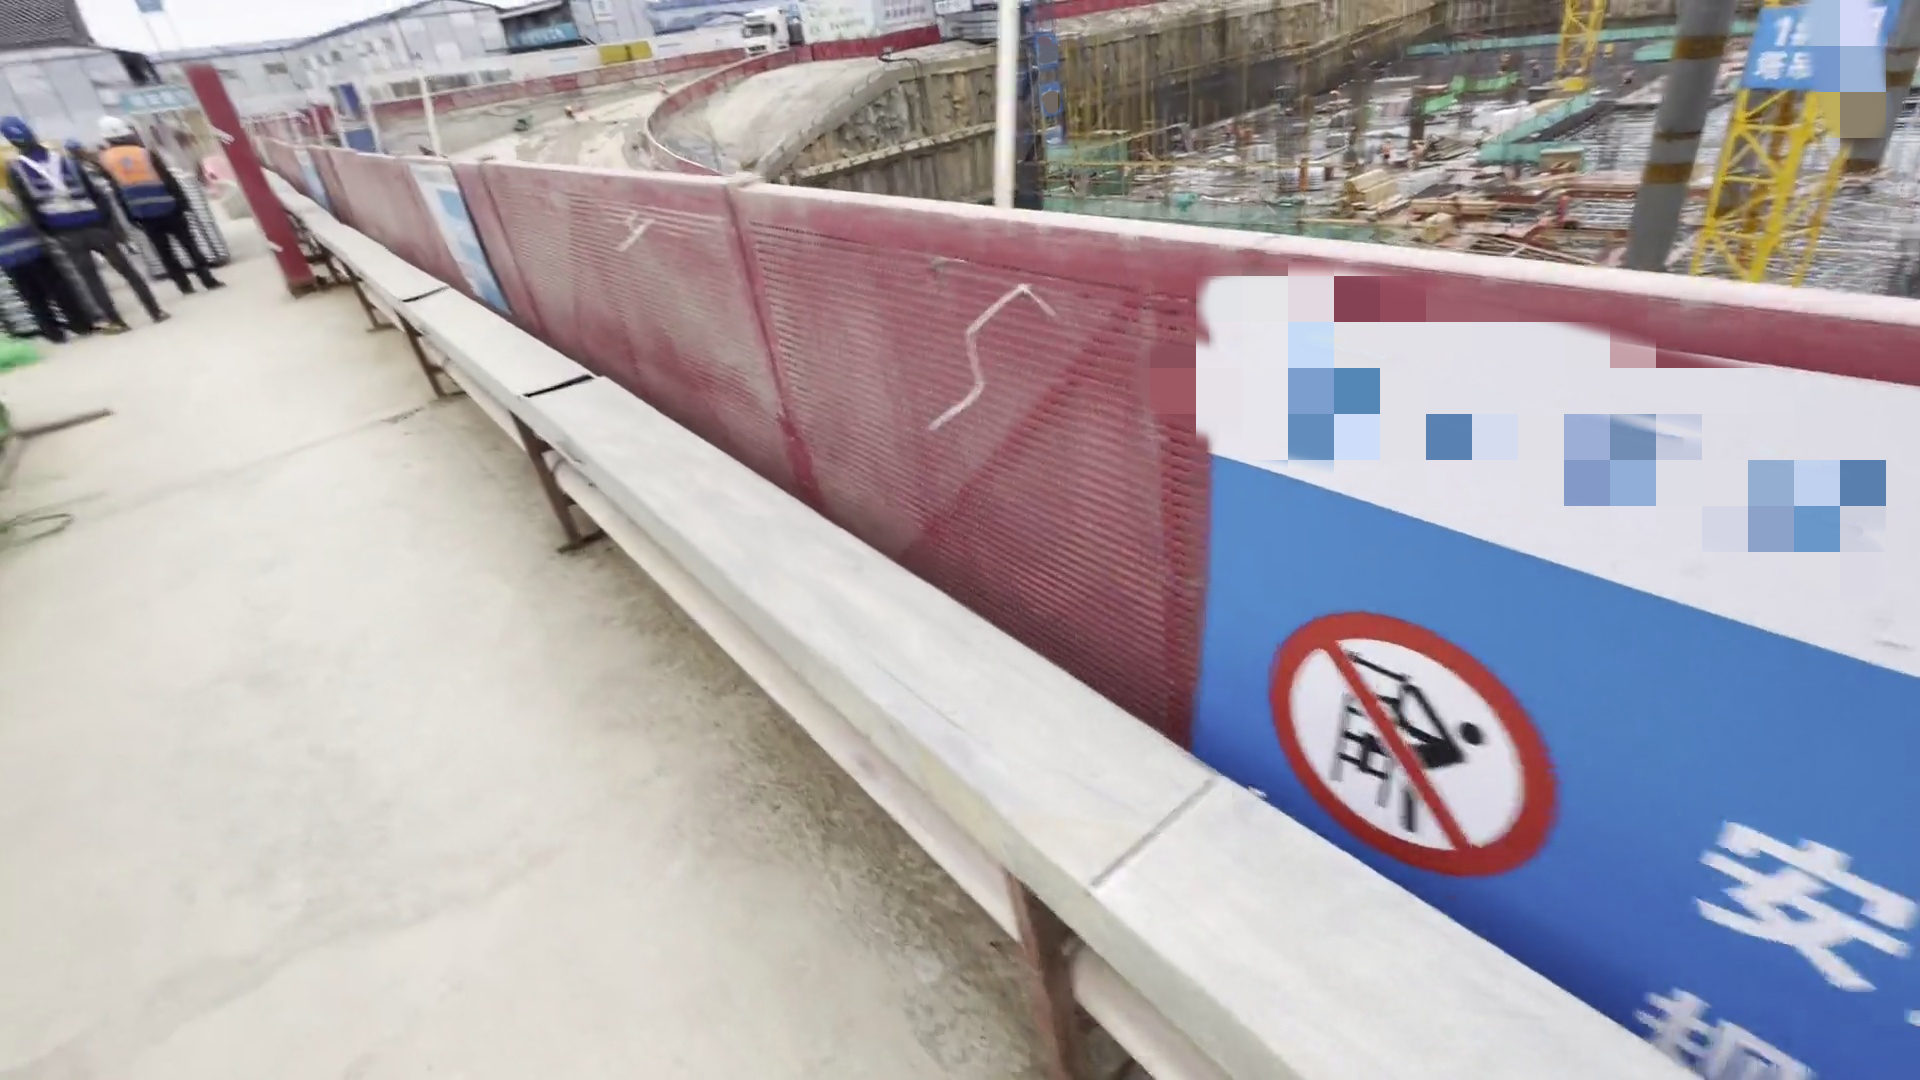fence: (262, 52, 1155, 684)
helmet: (3, 104, 45, 157), (97, 110, 149, 146)
person: (10, 116, 159, 332), (100, 103, 235, 306)
slogan: (1178, 285, 1920, 1063), (408, 167, 501, 318), (781, 1, 963, 52), (500, 3, 609, 58)
vest: (11, 153, 97, 242), (100, 146, 186, 232)
